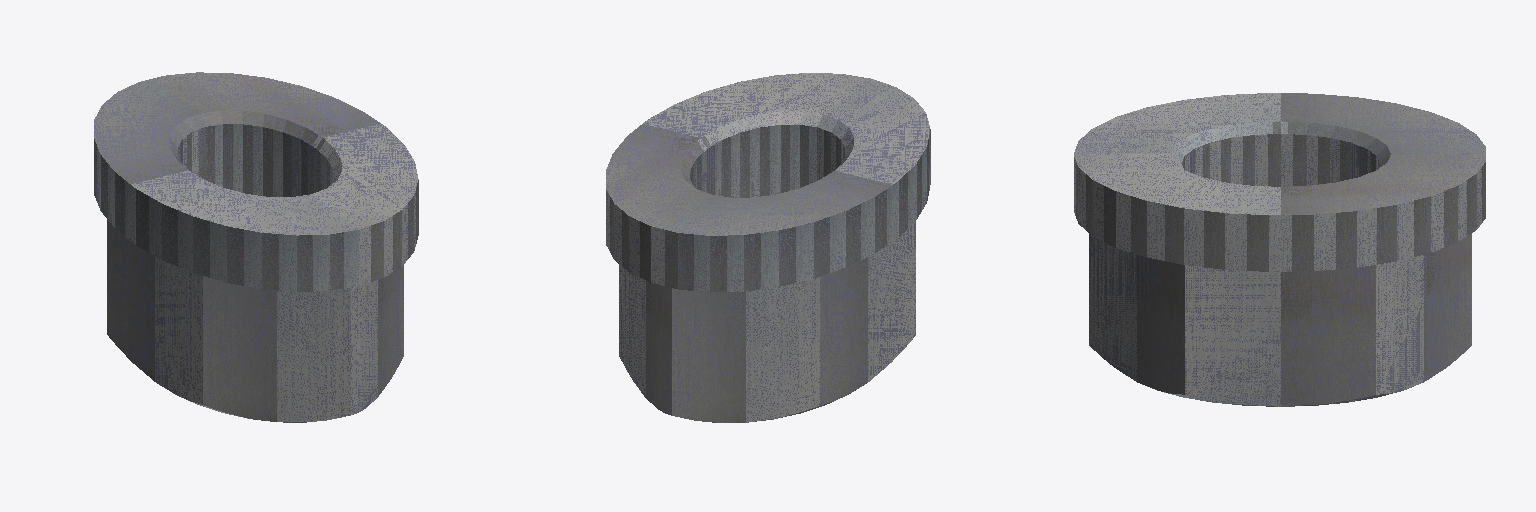
The picture shows the model from 3 angles: view 1: azimuth 30°, elevation 25°; view 2: azimuth 150°, elevation 25°; view 3: azimuth 270°, elevation 25°; orthographic projection.
Visible parts, largest first — view 1: Ecrou_d_étanchéité_M_16_x_15_1/Ecrou_d_étanchéité_M_16_x_15/ecro; view 2: Ecrou_d_étanchéité_M_16_x_15_1/Ecrou_d_étanchéité_M_16_x_15/ecro; view 3: Ecrou_d_étanchéité_M_16_x_15_1/Ecrou_d_étanchéité_M_16_x_15/ecro.
Part boxes in pixels (left/top/right/bottom): Ecrou_d_étanchéité_M_16_x_15_1/Ecrou_d_étanchéité_M_16_x_15/ecro: left=94, top=72, right=418, bottom=422; Ecrou_d_étanchéité_M_16_x_15_1/Ecrou_d_étanchéité_M_16_x_15/ecro: left=606, top=73, right=930, bottom=422; Ecrou_d_étanchéité_M_16_x_15_1/Ecrou_d_étanchéité_M_16_x_15/ecro: left=1074, top=93, right=1485, bottom=406.
Bounding box in the file's own units: 0.0285 × 0.0221 × 0.0405.
2 materials, 1 textured.